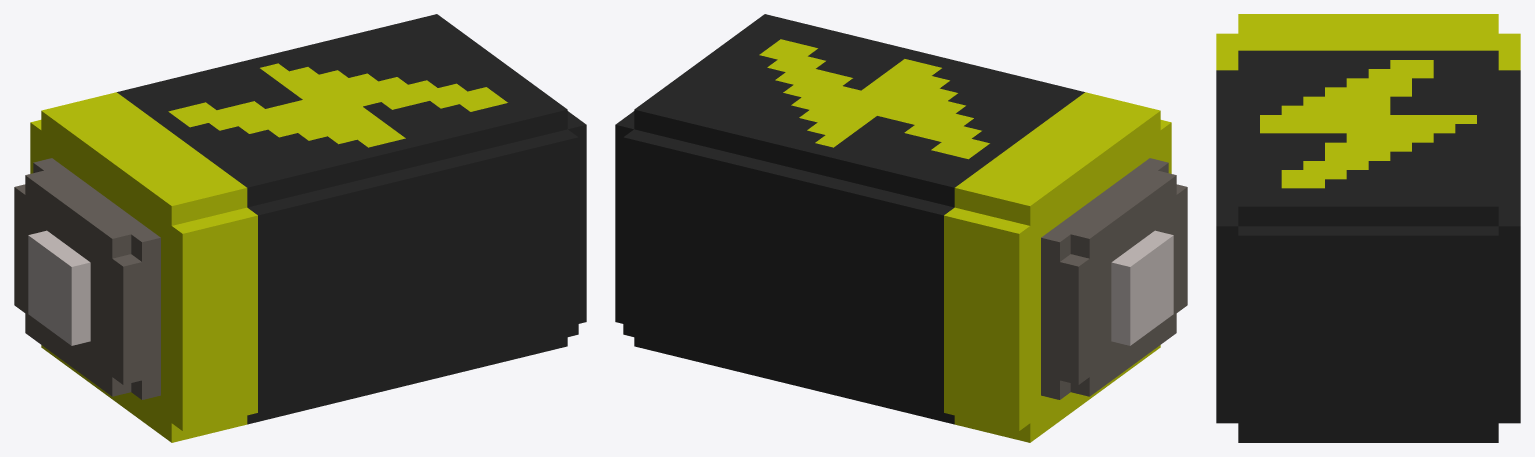
The model's file is SmallBatteryPickUp.obj.
The picture shows the model from 3 angles, left to right: view 1: azimuth 30°, elevation 25°; view 2: azimuth 150°, elevation 25°; view 3: azimuth 270°, elevation 25°; orthographic projection.
Visible parts, largest first — view 1: SmallBatteryPickUp; view 2: SmallBatteryPickUp; view 3: SmallBatteryPickUp.
Boxes of the visible parts, x1,y1,x2,y2 form: SmallBatteryPickUp: (14, 14, 586, 442); SmallBatteryPickUp: (615, 14, 1187, 442); SmallBatteryPickUp: (1216, 14, 1520, 442).
Bounding box in the file's own units: 25 × 12 × 14.
